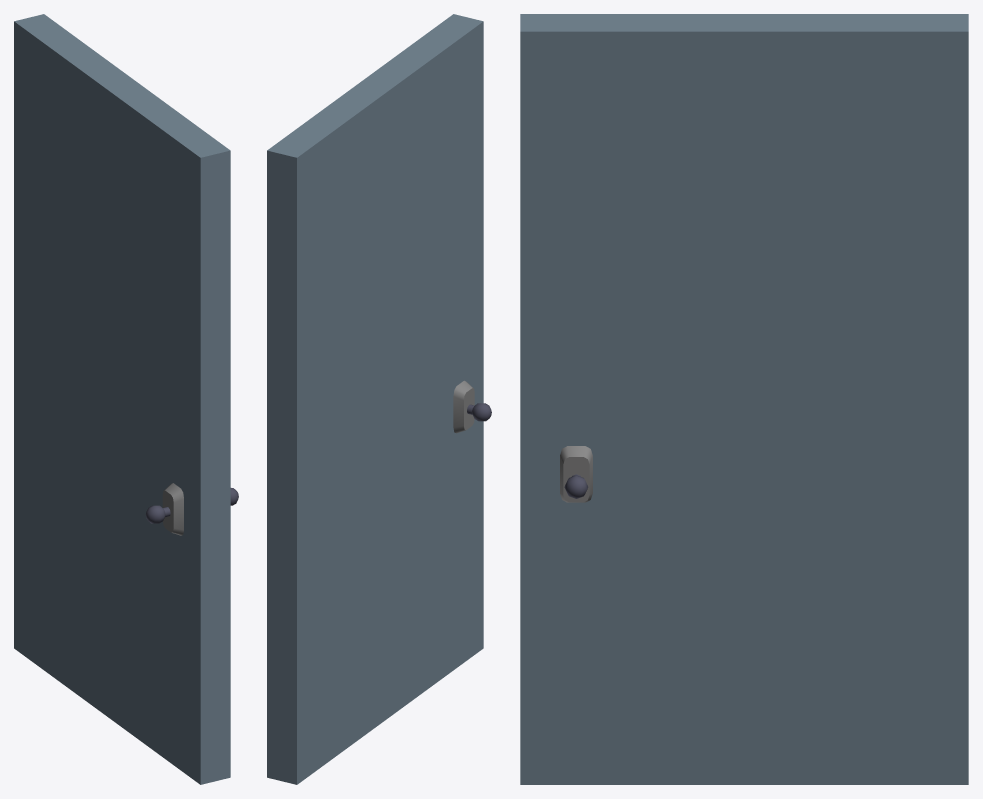
File: SM_Buildings_Commercial_SideDoor_01.fbx
3 views of the same model, side by side, from view 1: azimuth 30°, elevation 25°; view 2: azimuth 150°, elevation 25°; view 3: azimuth 270°, elevation 25° (orthographic). The views are drawn at different scales.
Parts seen in each view (by area): view 1: SM_Buildings_Commercial_SideDoor_01; view 2: SM_Buildings_Commercial_SideDoor_01; view 3: SM_Buildings_Commercial_SideDoor_01.
Boxes of the visible parts, x1,y1,x2,y2 form: SM_Buildings_Commercial_SideDoor_01: (14, 14, 238, 784); SM_Buildings_Commercial_SideDoor_01: (267, 14, 491, 784); SM_Buildings_Commercial_SideDoor_01: (520, 14, 968, 784).
Bounding box in the file's own units: 0.3016 × 1.99 × 1.08.
